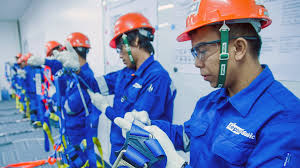Hard Hat: (175, 1, 274, 41), (110, 13, 155, 45), (61, 34, 91, 49), (45, 40, 60, 54)
